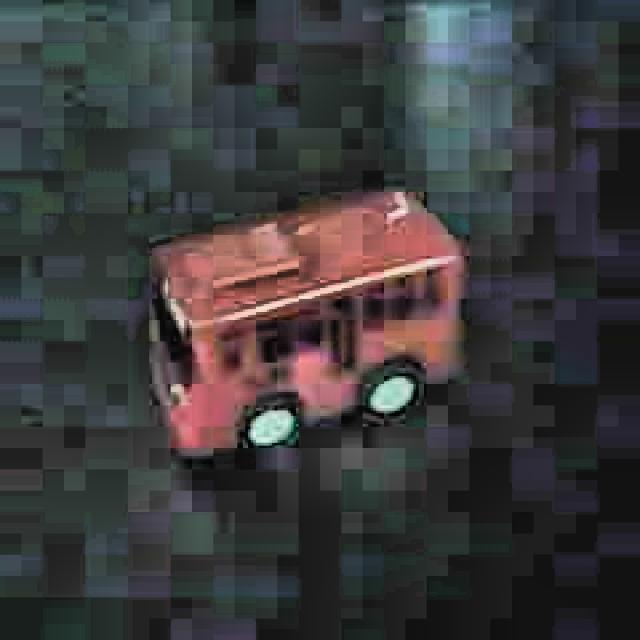bus: (144, 183, 464, 458)
